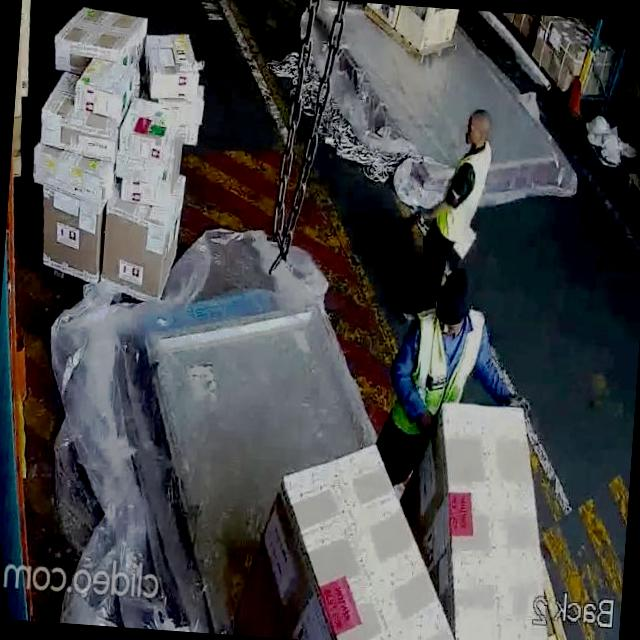Box: (97, 202, 183, 290), (54, 7, 146, 68), (39, 196, 104, 280), (148, 28, 203, 98), (116, 100, 178, 162), (34, 114, 108, 156), (31, 154, 105, 192), (80, 60, 130, 109)
